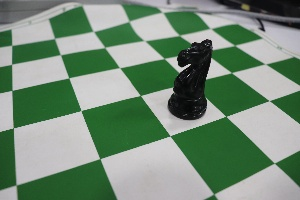black_horse: (163, 27, 221, 126)
